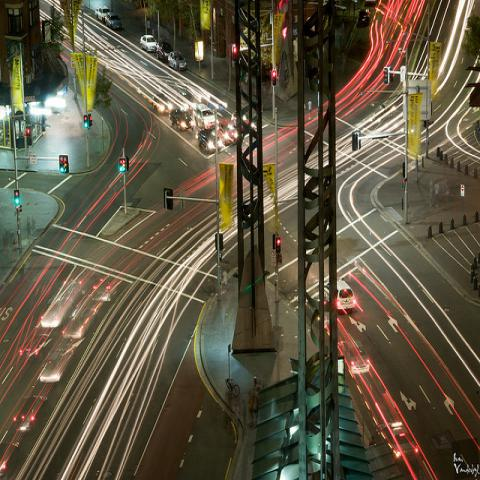car: (8, 256, 480, 452), (323, 279, 356, 314), (342, 337, 371, 373), (192, 103, 216, 128), (170, 108, 194, 131), (218, 120, 237, 145), (152, 92, 172, 114), (231, 110, 249, 134), (197, 129, 216, 151), (140, 34, 159, 53), (167, 50, 186, 68), (105, 12, 123, 30), (157, 44, 172, 63), (94, 7, 110, 23)
